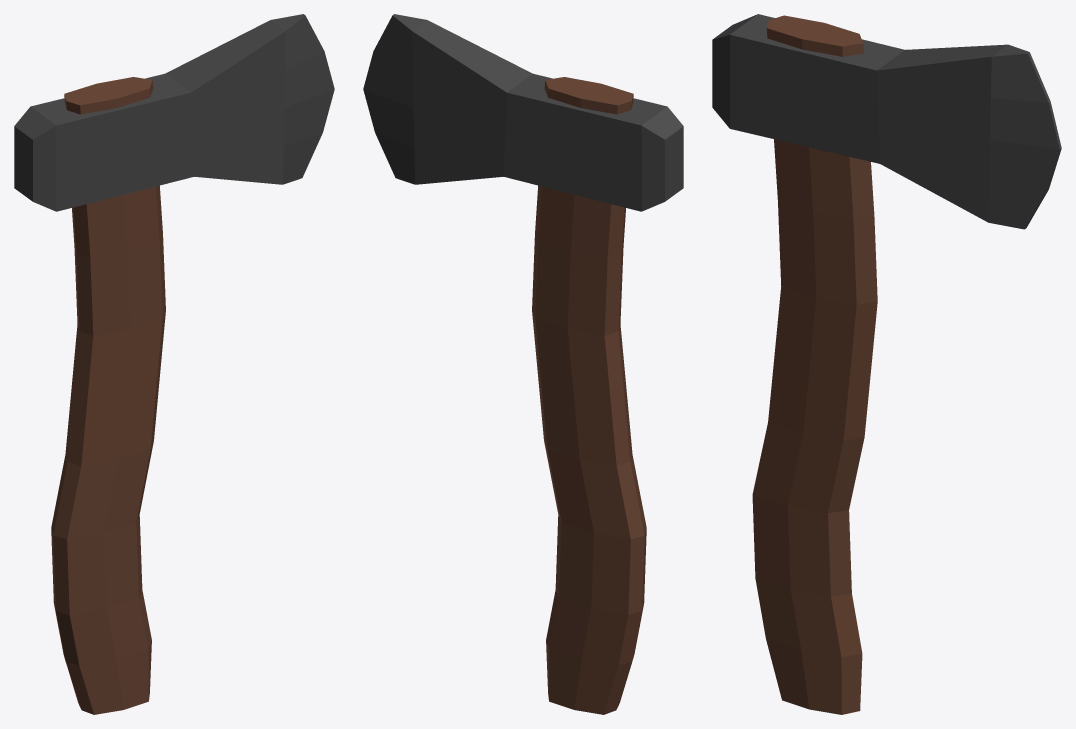
File: hache en bois 1-1.fbx
The picture shows the model from 3 angles, left to right: view 1: azimuth 30°, elevation 25°; view 2: azimuth 150°, elevation 25°; view 3: azimuth 330°, elevation 25°; orthographic projection. The views are drawn at different scales.
Visible parts, largest first — view 1: Cube, Cube.001; view 2: Cube, Cube.001; view 3: Cube, Cube.001.
Boxes of the visible parts, bbox=[...] form: Cube: bbox=[51, 77, 165, 714]; Cube.001: bbox=[14, 14, 334, 211]; Cube: bbox=[532, 77, 646, 714]; Cube.001: bbox=[363, 14, 683, 211]; Cube: bbox=[752, 15, 877, 714]; Cube.001: bbox=[712, 14, 1061, 229].
Bounding box in the file's own units: 94.58 × 187 × 13.72.
